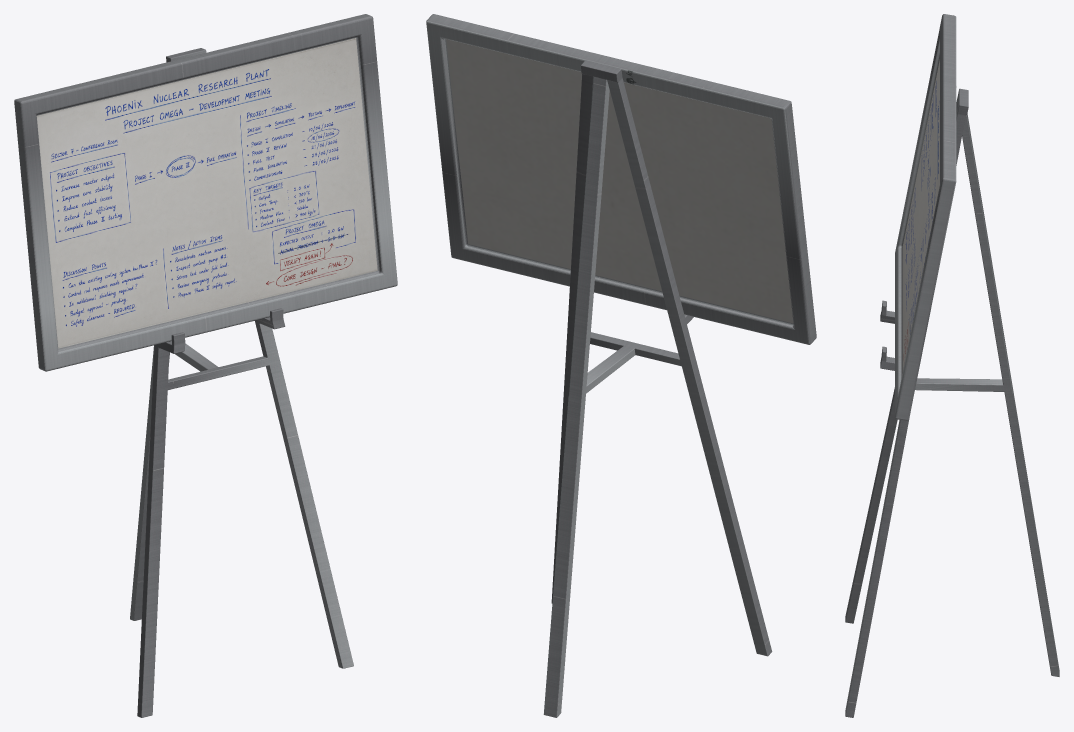
File: WhiteBoard.fbx
The picture shows the model from 3 angles, left to right: view 1: azimuth 30°, elevation 25°; view 2: azimuth 150°, elevation 25°; view 3: azimuth 270°, elevation 25°; orthographic projection. The views are drawn at different scales.
Parts seen in each view (by area): view 1: Board, Border, Stand; view 2: Board, Stand, Border; view 3: Stand, Border, Board.
Boxes of the visible parts, x1=… form: Board: x1=36, y1=38, x2=377, y2=348; Border: x1=14, y1=14, x2=397, y2=371; Stand: x1=130, y1=48, x2=353, y2=717; Board: x1=446, y1=39, x2=793, y2=323; Stand: x1=543, y1=60, x2=772, y2=717; Border: x1=426, y1=14, x2=816, y2=344; Stand: x1=845, y1=88, x2=1059, y2=717; Border: x1=895, y1=14, x2=956, y2=420; Board: x1=902, y1=59, x2=939, y2=371.
Size of the model in its own units: 191 by 312 by 105.
2 materials, 2 textured.
